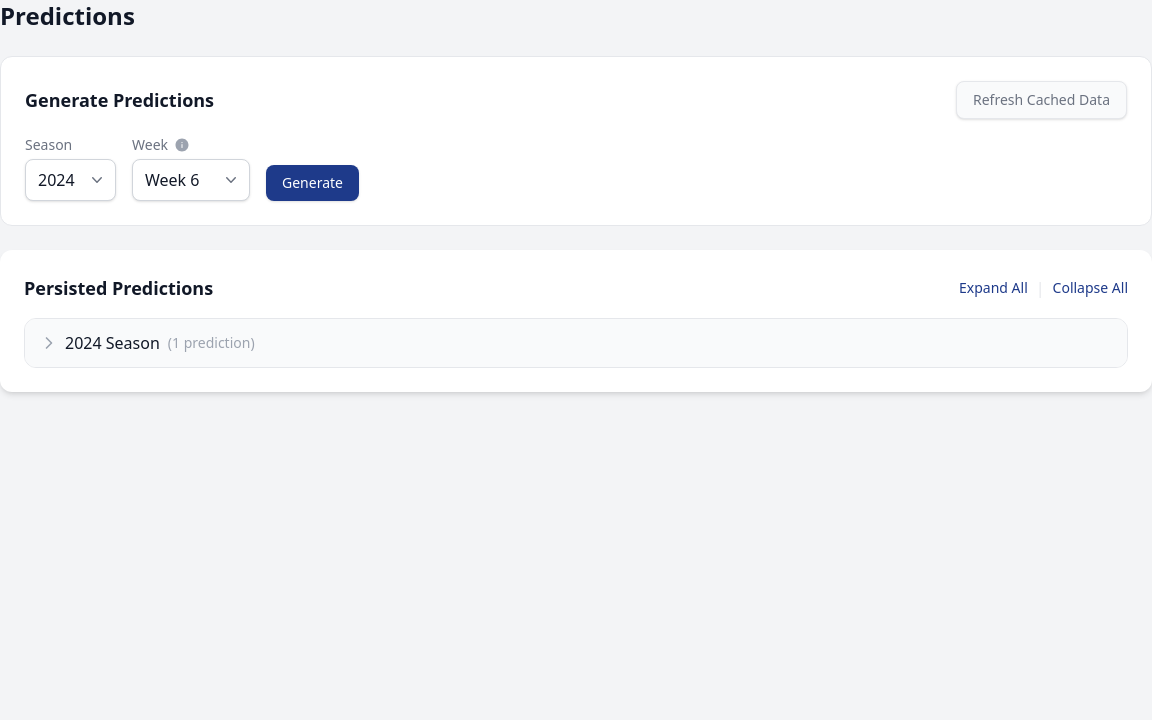
Test: PredictionsPage › shows confirm modal for deleting published predictions
What coordinates should you click on to do the following:
click the button "2024 Season (1 prediction)"
I would click on:
 (83, 343)
Its box is [25, 319, 1127, 367].
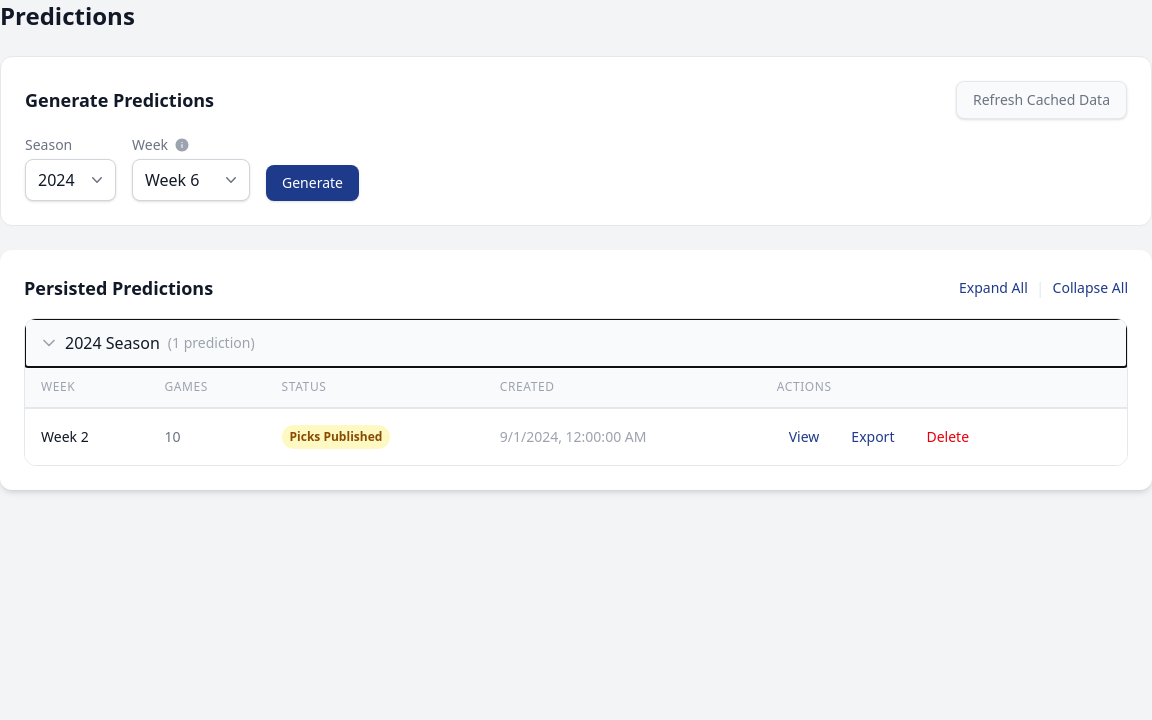
What coordinates should you click on to do the following:
click the button "Delete"
I would click on:
 (948, 437)
Its box is [914, 421, 981, 453].
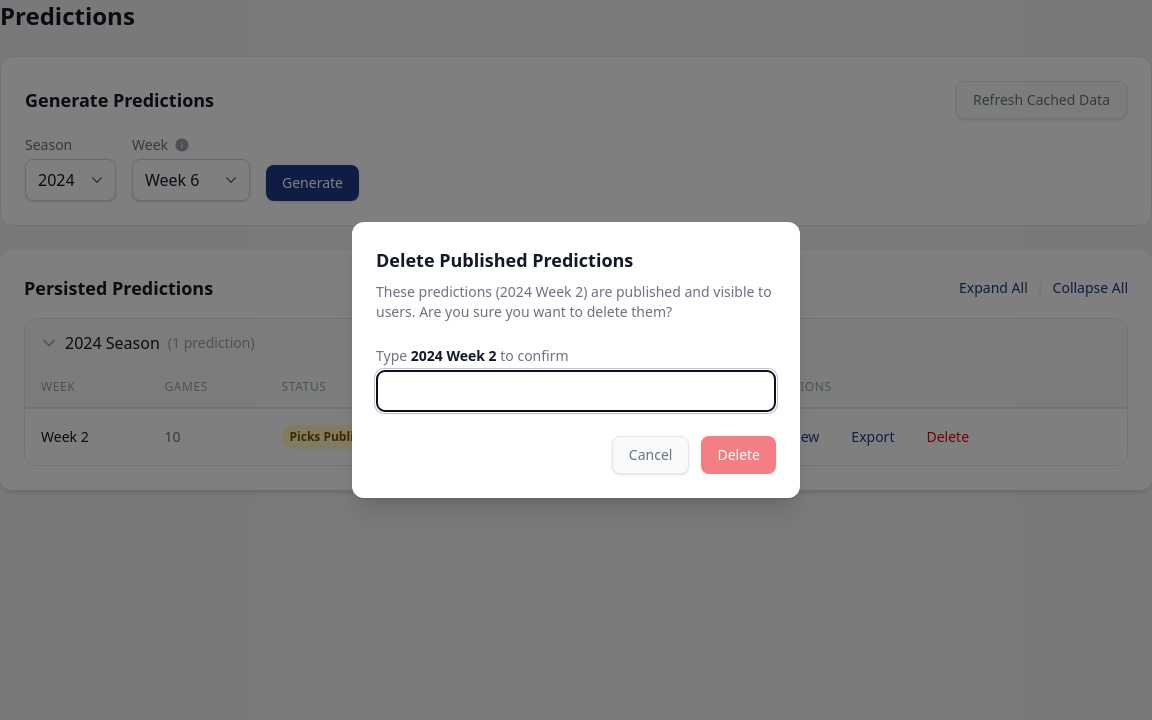
Now the heading "Delete Published Predictions" is shown, box [376, 248, 633, 272]
